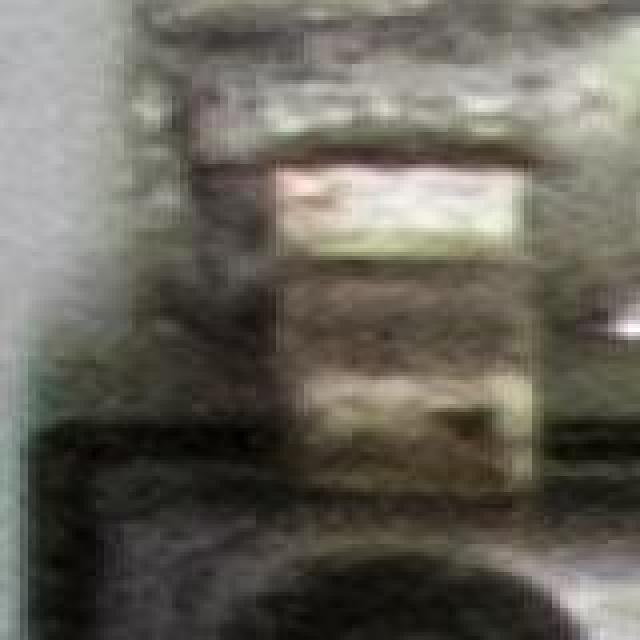switch: (16, 0, 640, 640)
